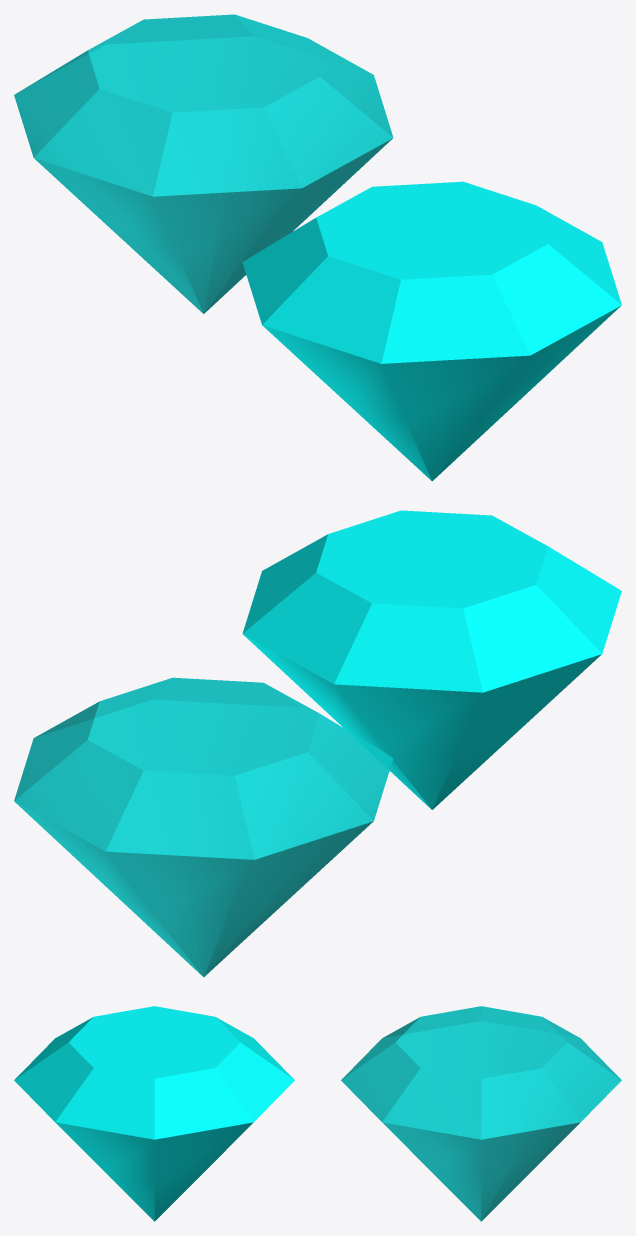
File: Diamante.fbx
The picture shows the model from 3 angles, top to bottom: view 1: azimuth 30°, elevation 25°; view 2: azimuth 150°, elevation 25°; view 3: azimuth 270°, elevation 25°; orthographic projection. The views are drawn at different scales.
Parts seen in each view (by area): view 1: pasted__pCone1, pCone1; view 2: pCone1, pasted__pCone1; view 3: pCone1, pasted__pCone1.
Part boxes in pixels (box(x1,y1,x2,y2)): pasted__pCone1: box(242, 181, 621, 481); pCone1: box(14, 14, 393, 313); pCone1: box(14, 677, 393, 977); pasted__pCone1: box(242, 510, 621, 809); pCone1: box(341, 1006, 621, 1221); pasted__pCone1: box(14, 1006, 294, 1221).
Bounding box in the file's own units: 398 × 280 × 860.
